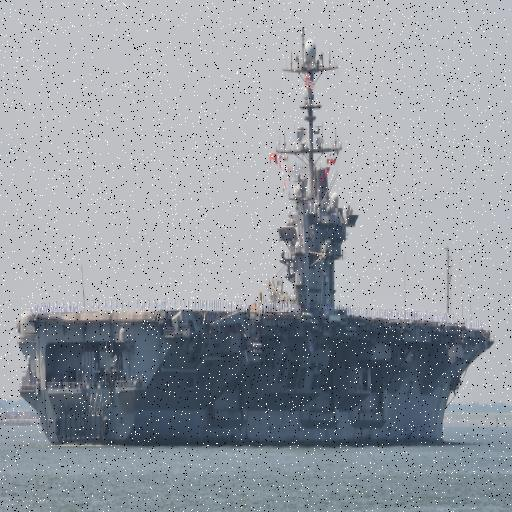Portanaves: (11, 24, 498, 449)
